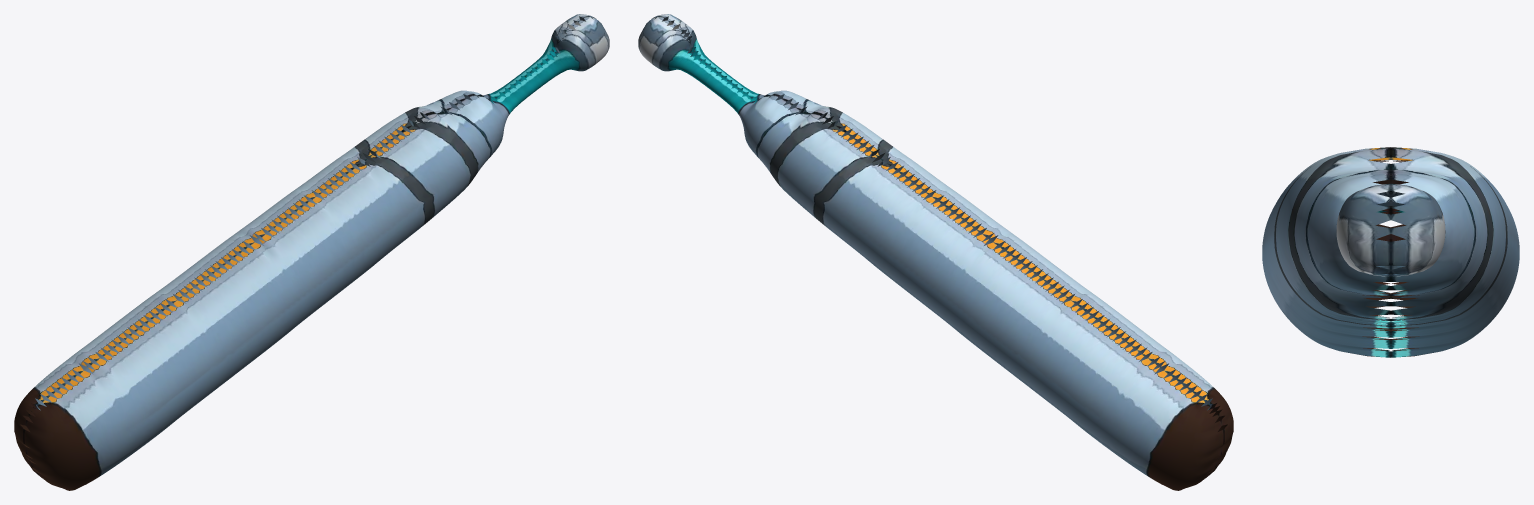
The model's file is radial_boom.glb.
The picture shows the model from 3 angles, left to right: view 1: azimuth 30°, elevation 25°; view 2: azimuth 150°, elevation 25°; view 3: azimuth 270°, elevation 25°; orthographic projection. The views are drawn at different scales.
Parts seen in each view (by area): view 1: radial_boom; view 2: radial_boom; view 3: radial_boom.
Part boxes in pixels (x1,y1,x2,y2): radial_boom: (14,14,609,490); radial_boom: (638,14,1233,490); radial_boom: (1262,147,1519,357).
Bounding box in the file's own units: 0.989 × 0.5532 × 0.19.
1 material, 1 textured.
